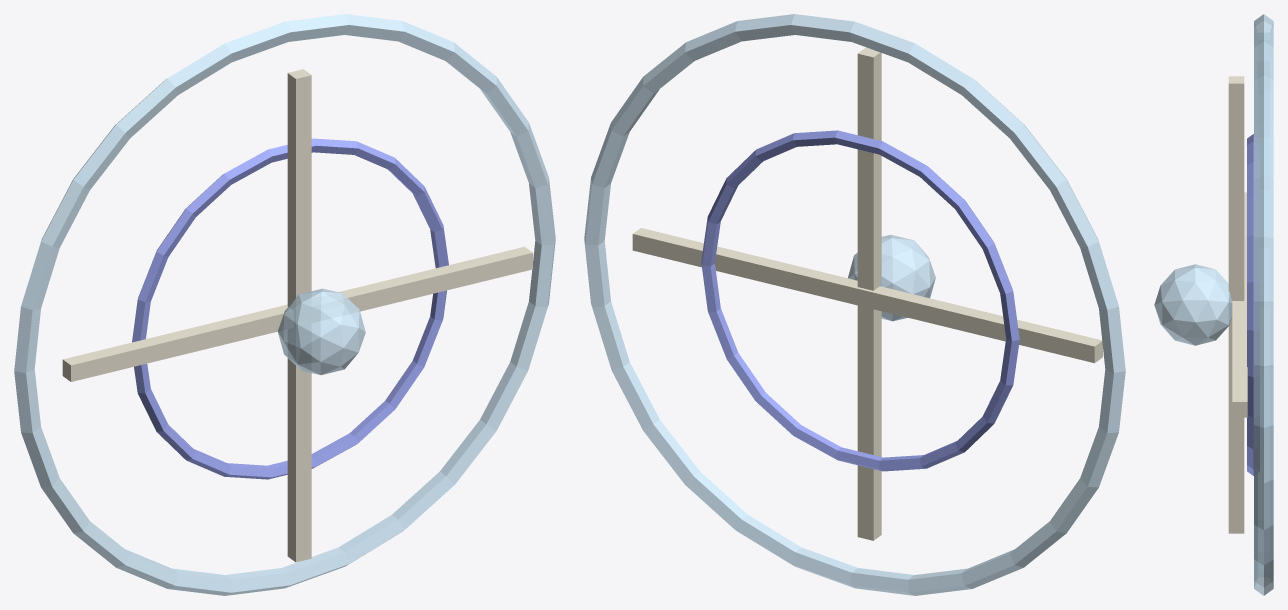
File: 06_combat_flow_anchor.glb
3 renders of one model, left to right at view 1: azimuth 30°, elevation 25°; view 2: azimuth 150°, elevation 25°; view 3: azimuth 270°, elevation 25°, orthographic. The views are drawn at different scales.
Parts seen in each view (by area): view 1: flow_outer_ring, flow_inner_ring, flow_lane_cross, flow_lane_forward, perfect_flow_core; view 2: flow_outer_ring, flow_inner_ring, flow_lane_forward, flow_lane_cross, perfect_flow_core; view 3: flow_outer_ring, flow_lane_cross, perfect_flow_core, flow_inner_ring, flow_lane_forward.
Boxes of the visible parts, x1,y1,x2,y2 form: flow_outer_ring: (14,14,555,595); flow_inner_ring: (132,138,448,479); flow_lane_cross: (287,69,311,562); flow_lane_forward: (62,246,532,381); perfect_flow_core: (277,288,365,374); flow_outer_ring: (584,14,1125,595); flow_inner_ring: (701,130,1019,471); flow_lane_forward: (632,228,1102,363); flow_lane_cross: (857,47,881,540); perfect_flow_core: (848,235,935,321); flow_outer_ring: (1254,14,1273,595); flow_lane_cross: (1228,76,1244,533); perfect_flow_core: (1154,264,1232,345); flow_inner_ring: (1247,134,1259,475); flow_lane_forward: (1232,192,1247,417).
Size of the model in its own units: 1.7 by 1.7 by 0.3485.
